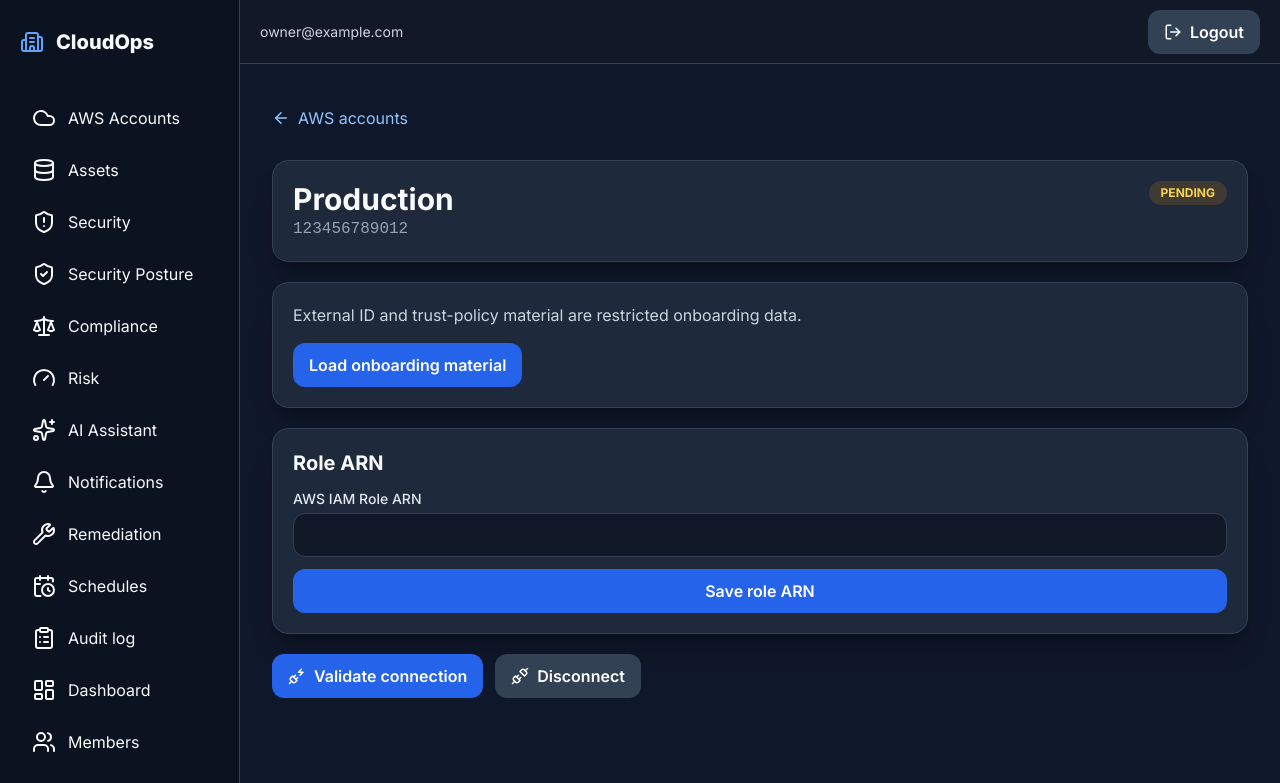
Test case: Stage 2 AWS account onboarding › validates a role ARN on account details
The width and height of the screenshot is (1280, 783).
Type "not-an-arn" into the field labelled "AWS IAM Role ARN" at (760, 535), box [293,513,1227,557]
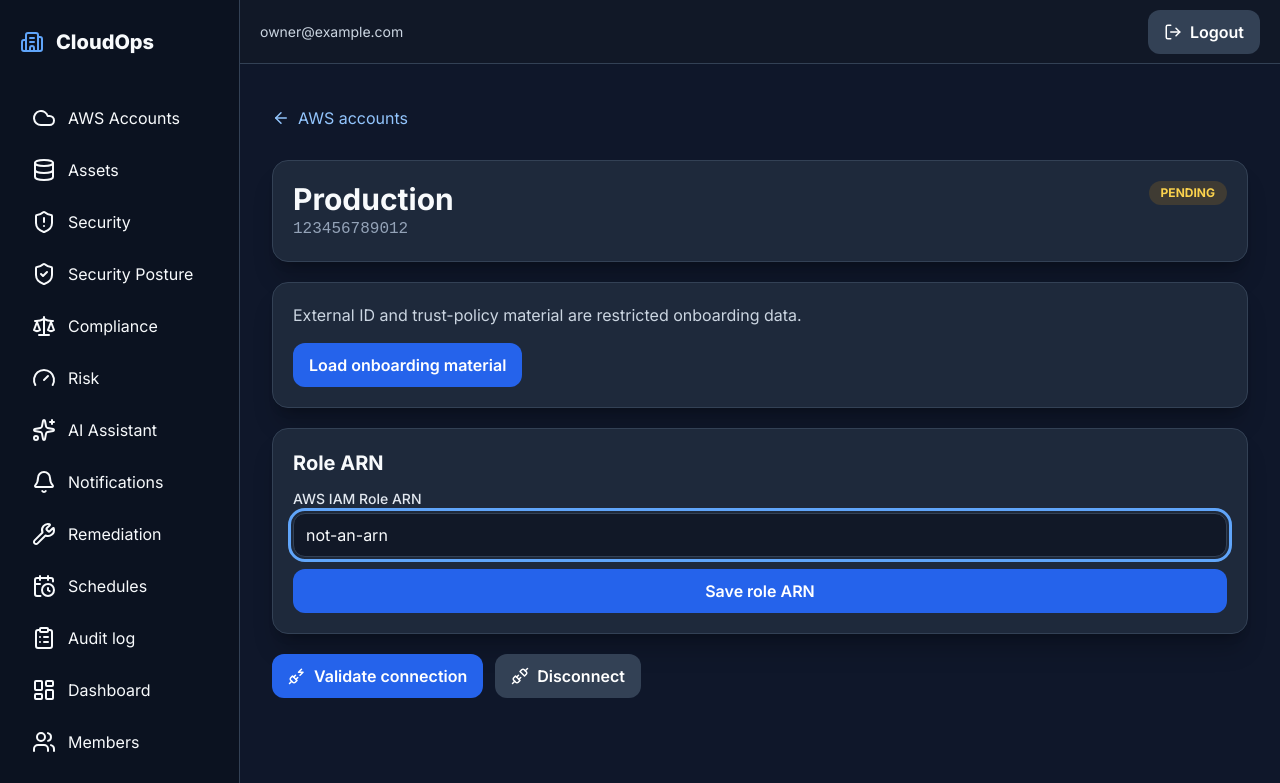
Click the button "Save role ARN" at (760, 591), box [293,569,1227,613]
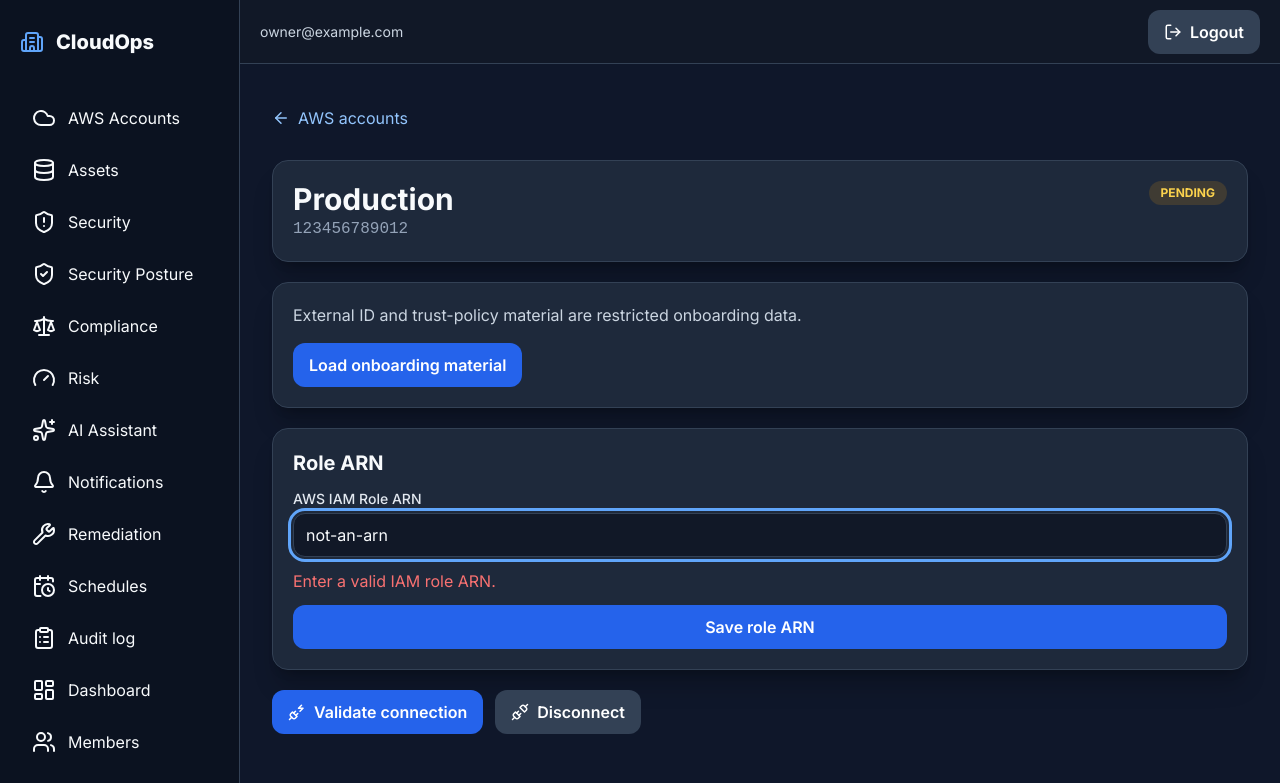
Expected: the text "Enter a valid IAM role ARN." is shown, [293,571,496,591]
